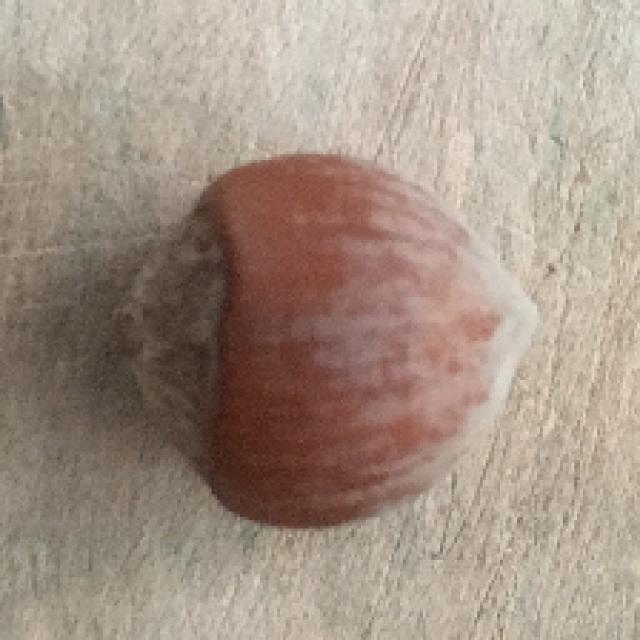qualityHazelnut: (110, 152, 544, 526)
